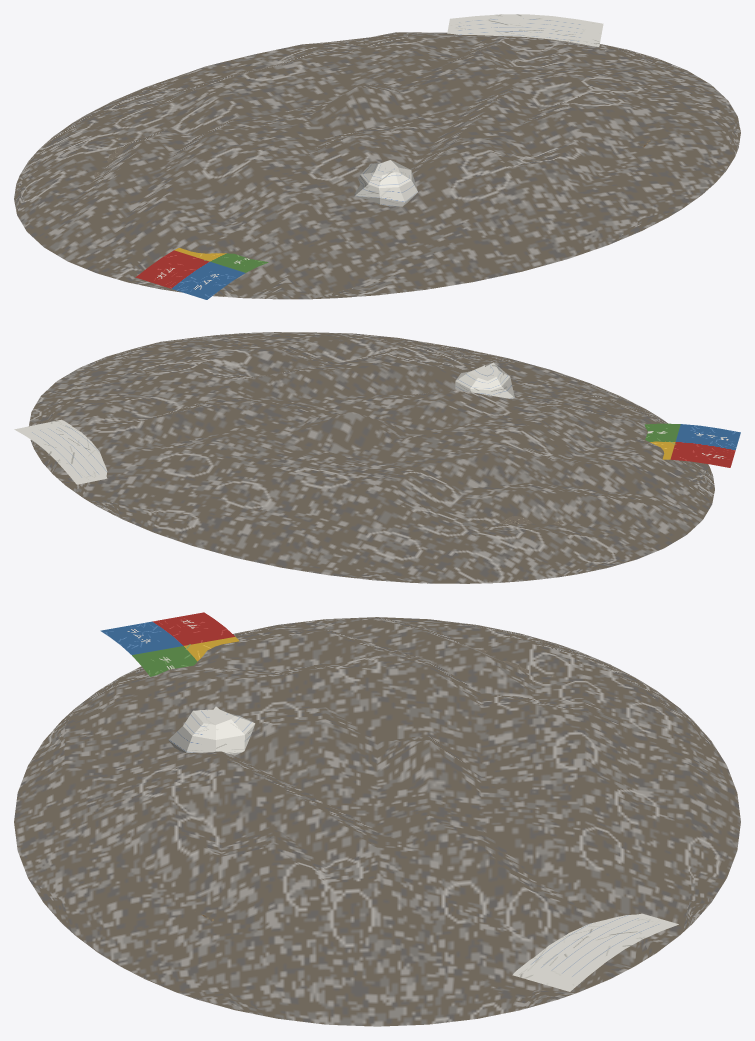
The model's file is dustpile.glb.
3 renders of one model, top to bottom at view 1: azimuth 30°, elevation 25°; view 2: azimuth 150°, elevation 25°; view 3: azimuth 270°, elevation 25°, orthographic. The views are drawn at different scales.
Parts seen in each view (by area): view 1: dustpile; view 2: dustpile; view 3: dustpile.
Part boxes in pixels (left/top/right/bottom): dustpile: left=14, top=14, right=740, bottom=299; dustpile: left=14, top=332, right=740, bottom=583; dustpile: left=14, top=612, right=740, bottom=1026.
Bounding box in the file's own units: 0.6 × 0.0559 × 0.45.
1 material, 1 textured.
